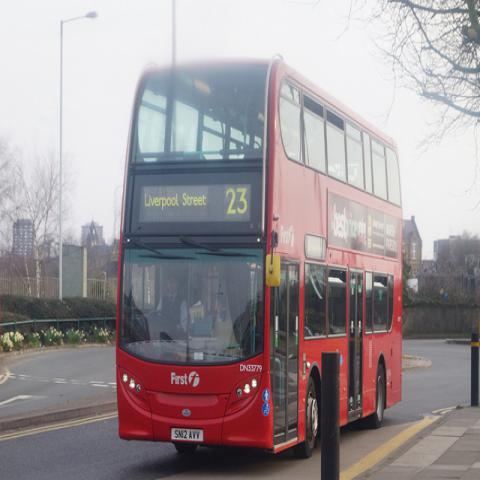bus: (116, 57, 404, 463)
